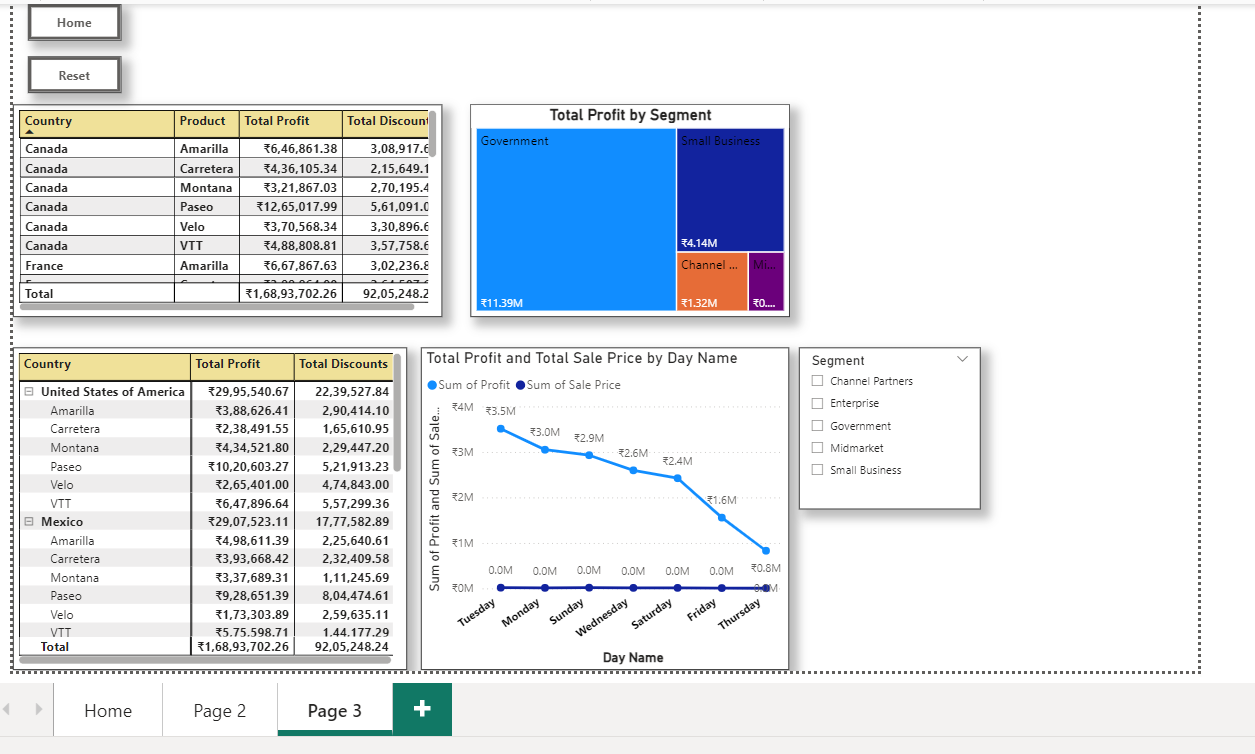

What the dashboard file says about the page in this screenshot:
{"tool":"powerbi","page":{"name":"Page 3","canvas":[1280,720],"ordinal":2},"visuals":[{"type":"pivotTable","fields":{"Rows":["Financials.Country","Financials.Product"],"Values":["Sum(Financials.Profit)","Sum(Financials.Discounts)"]},"box":[0,371.1,425.6,348],"z":1},{"type":"tableEx","fields":{"Values":["Financials.Country","Financials.Product","Sum(Financials.Profit)","Sum(Financials.Discounts)"]},"box":[0,108.9,463.5,229.3],"z":2},{"type":"treemap","fields":{"Group":["Financials.Segment"],"Values":["Sum(Financials.Profit)"]},"box":[493.2,108.9,344.7,229.3],"z":3},{"type":"lineChart","title":"Total Profit and Total Sale Price by Day Name","fields":{"Y":["Sum(Financials.Profit)","Sum(Financials.Sale Price)"],"Category":["Financials.Day Name"]},"box":[440.4,371.1,397.5,348],"z":4},{"type":"slicer","fields":{"Values":["Financials.Segment"]},"box":[847.8,371.1,196.3,174.8],"z":7},{"type":"actionButton","box":[16.5,56.1,100.6,39.6],"z":8},{"type":"actionButton","title":"Home","box":[16.5,0,100.6,39.6],"z":9}]}

Visuals, with their boxes in screenshot pixels (x1, y1, x2, y2):
pivotTable - Financials.Country x Financials.Product: 7:346:403:671
tableEx - Financials.Country x Financials.Product: 7:102:439:315
treemap - Financials.Segment x Sum(Financials.Profit): 467:102:788:315
"Total Profit and Total Sale Price by Day Name" lineChart: 417:346:788:671
slicer - Financials.Segment: 797:346:980:509
actionButton: 22:52:116:89
"Home" actionButton: 22:0:116:37
